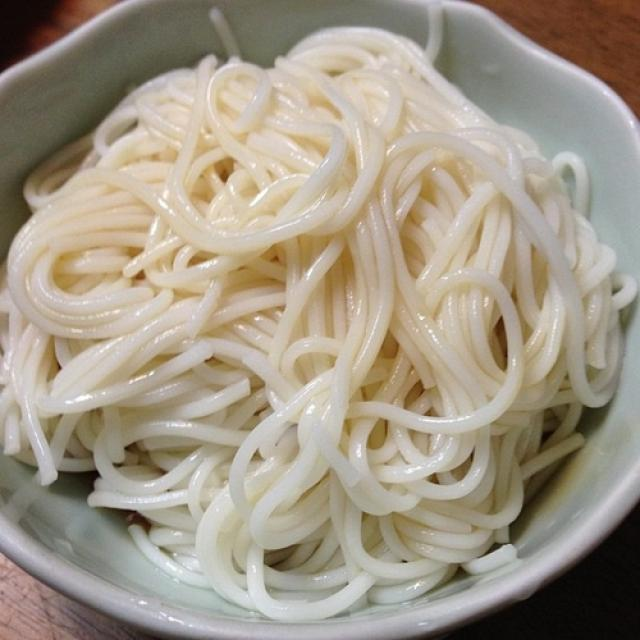面条主食: (11, 13, 621, 618)
